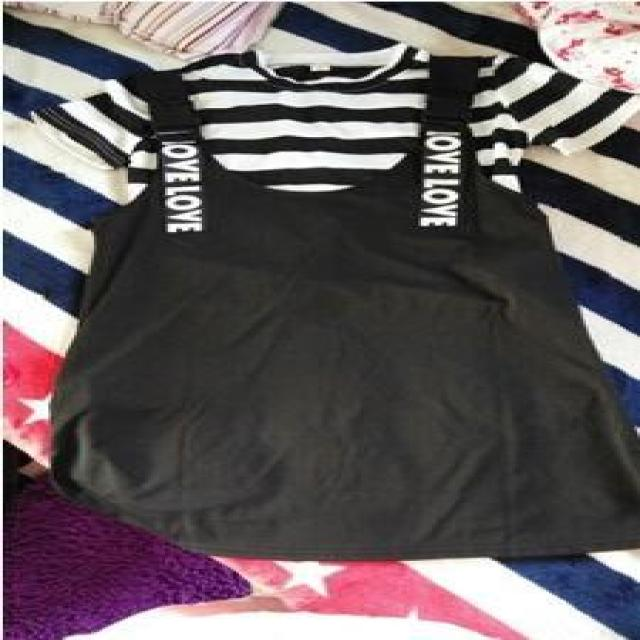short-sleeve-dress: (67, 41, 640, 566)
